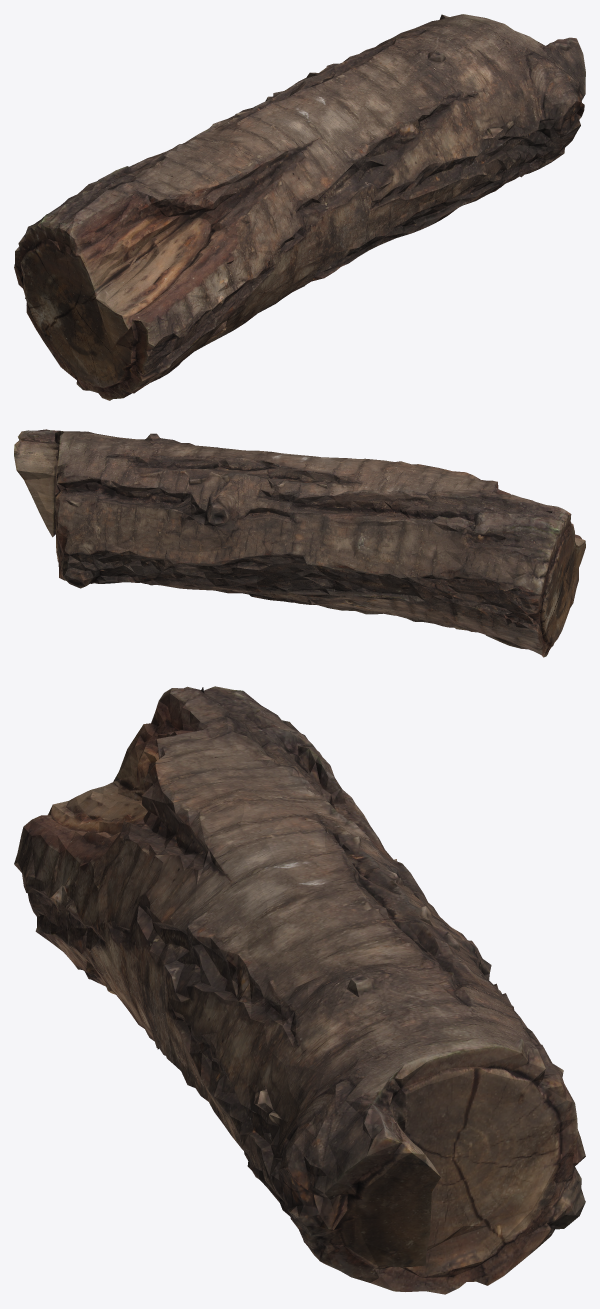
File: log.obj
3 renders of one model, top to bottom at view 1: azimuth 30°, elevation 25°; view 2: azimuth 150°, elevation 25°; view 3: azimuth 270°, elevation 25°, orthographic. The views are drawn at different scales.
Bounding box in the file's own units: 18.15 × 5.9 × 9.45.
